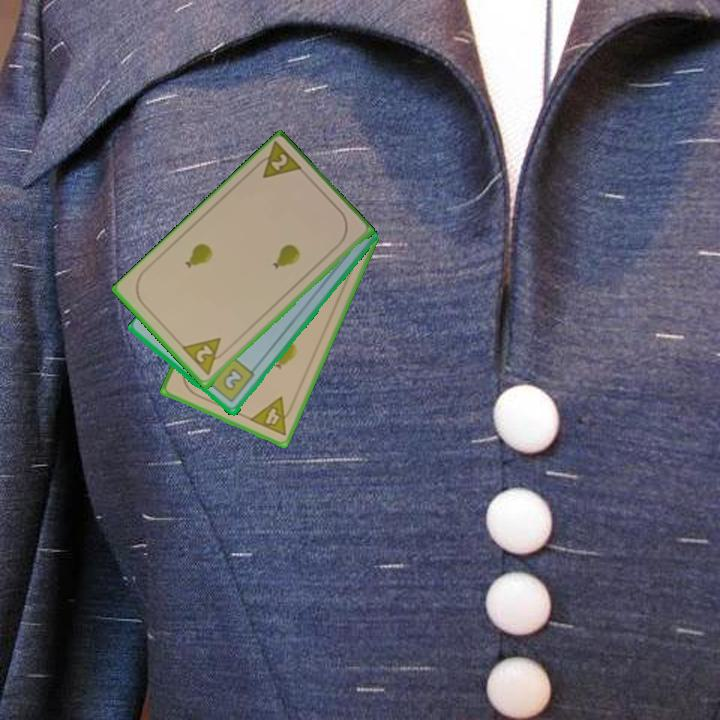2b: (203, 354, 257, 406)
2p: (250, 139, 306, 182), (179, 334, 231, 378)
4p: (246, 393, 298, 439)
